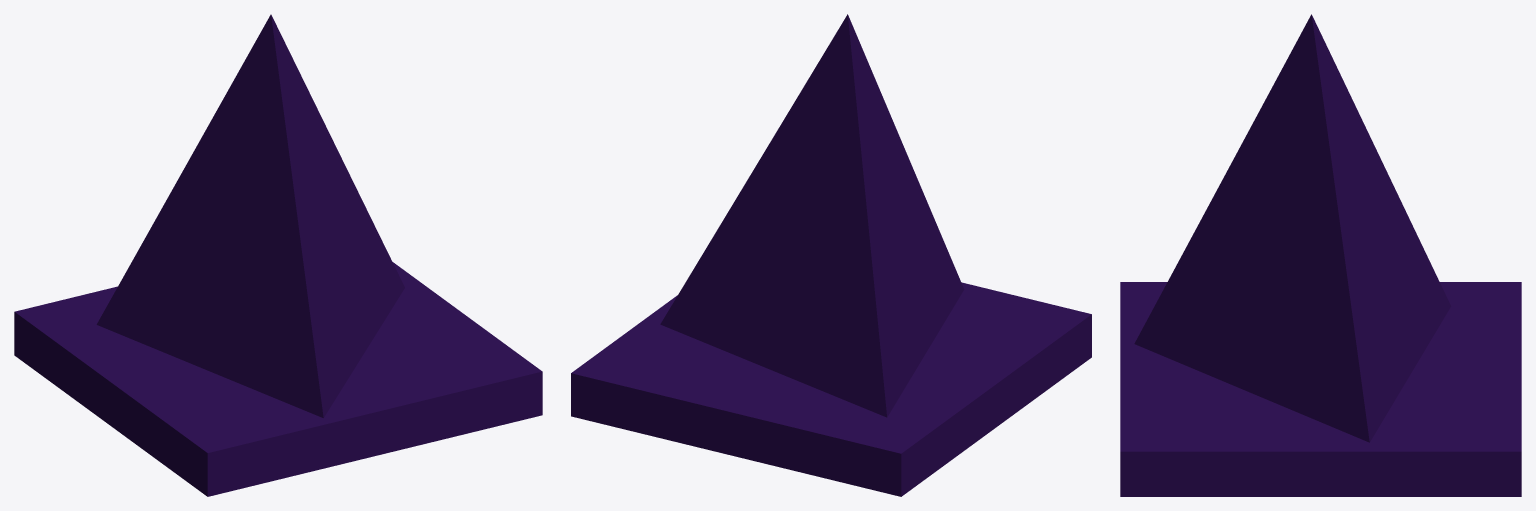
The model's file is diken1.obj.
3 views of the same model, side by side, from view 1: azimuth 30°, elevation 25°; view 2: azimuth 150°, elevation 25°; view 3: azimuth 270°, elevation 25° (orthographic). The views are drawn at different scales.
Parts seen in each view (by area): view 1: pCone1 diken, diken pCube1; view 2: pCone1 diken, diken pCube1; view 3: pCone1 diken, diken pCube1.
Part boxes in pixels (bbox=[...]): pCone1 diken: bbox=[96, 14, 404, 417]; diken pCube1: bbox=[14, 262, 542, 496]; pCone1 diken: bbox=[660, 14, 964, 417]; diken pCube1: bbox=[571, 282, 1091, 496]; pCone1 diken: bbox=[1134, 14, 1451, 442]; diken pCube1: bbox=[1120, 282, 1521, 496].
Size of the model in its own units: 2 by 2.16 by 2.
